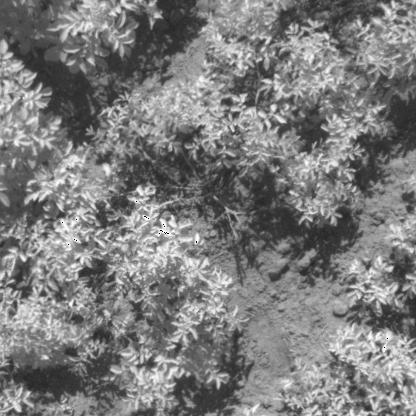healthy: (119, 304, 194, 412), (2, 208, 118, 272), (2, 57, 81, 145), (73, 0, 201, 54), (137, 229, 227, 302), (0, 150, 110, 209), (0, 0, 63, 57), (198, 302, 241, 381)
stressed: (0, 273, 116, 359), (327, 326, 413, 416), (119, 91, 179, 218), (185, 90, 282, 165), (293, 138, 349, 242), (362, 3, 413, 108), (225, 13, 288, 87), (0, 359, 84, 412), (344, 262, 416, 322), (301, 61, 359, 133), (294, 0, 354, 52), (286, 363, 326, 413), (390, 179, 414, 257), (203, 173, 239, 216)
